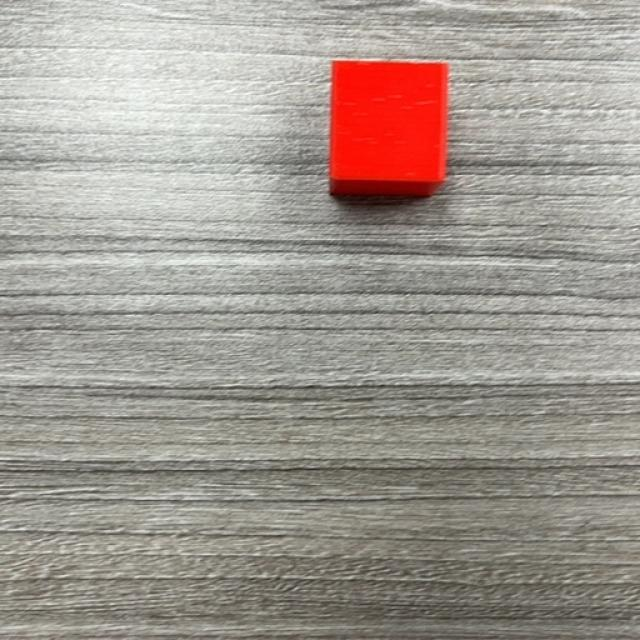Rojo: (329, 60, 450, 199)
